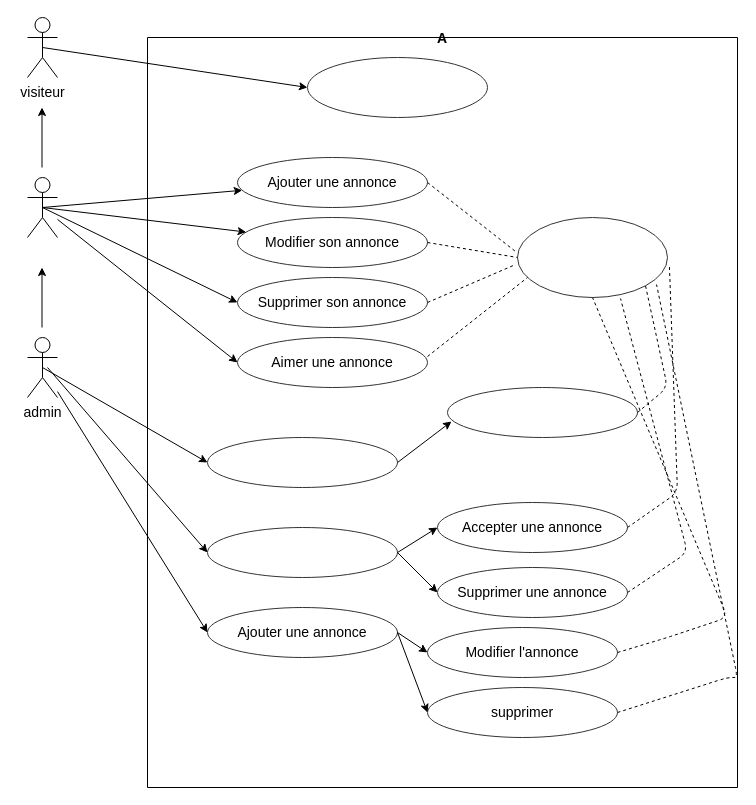
The diagram is 756 pixels wide and 805 high, and some of its shapes have lost their labels. The shapes that lost their labels are listed below. From the top down, each one's box as (x1, y1, x2, y2) in pixels, then its label:
(306, 56, 488, 118): Visiter le site
(26, 176, 58, 238): membre
(516, 216, 668, 298): Authentification
(446, 386, 638, 438): Supprimer un membre
(206, 436, 398, 488): Gerer les utilisateurs
(206, 526, 398, 578): Gerer les annonces
